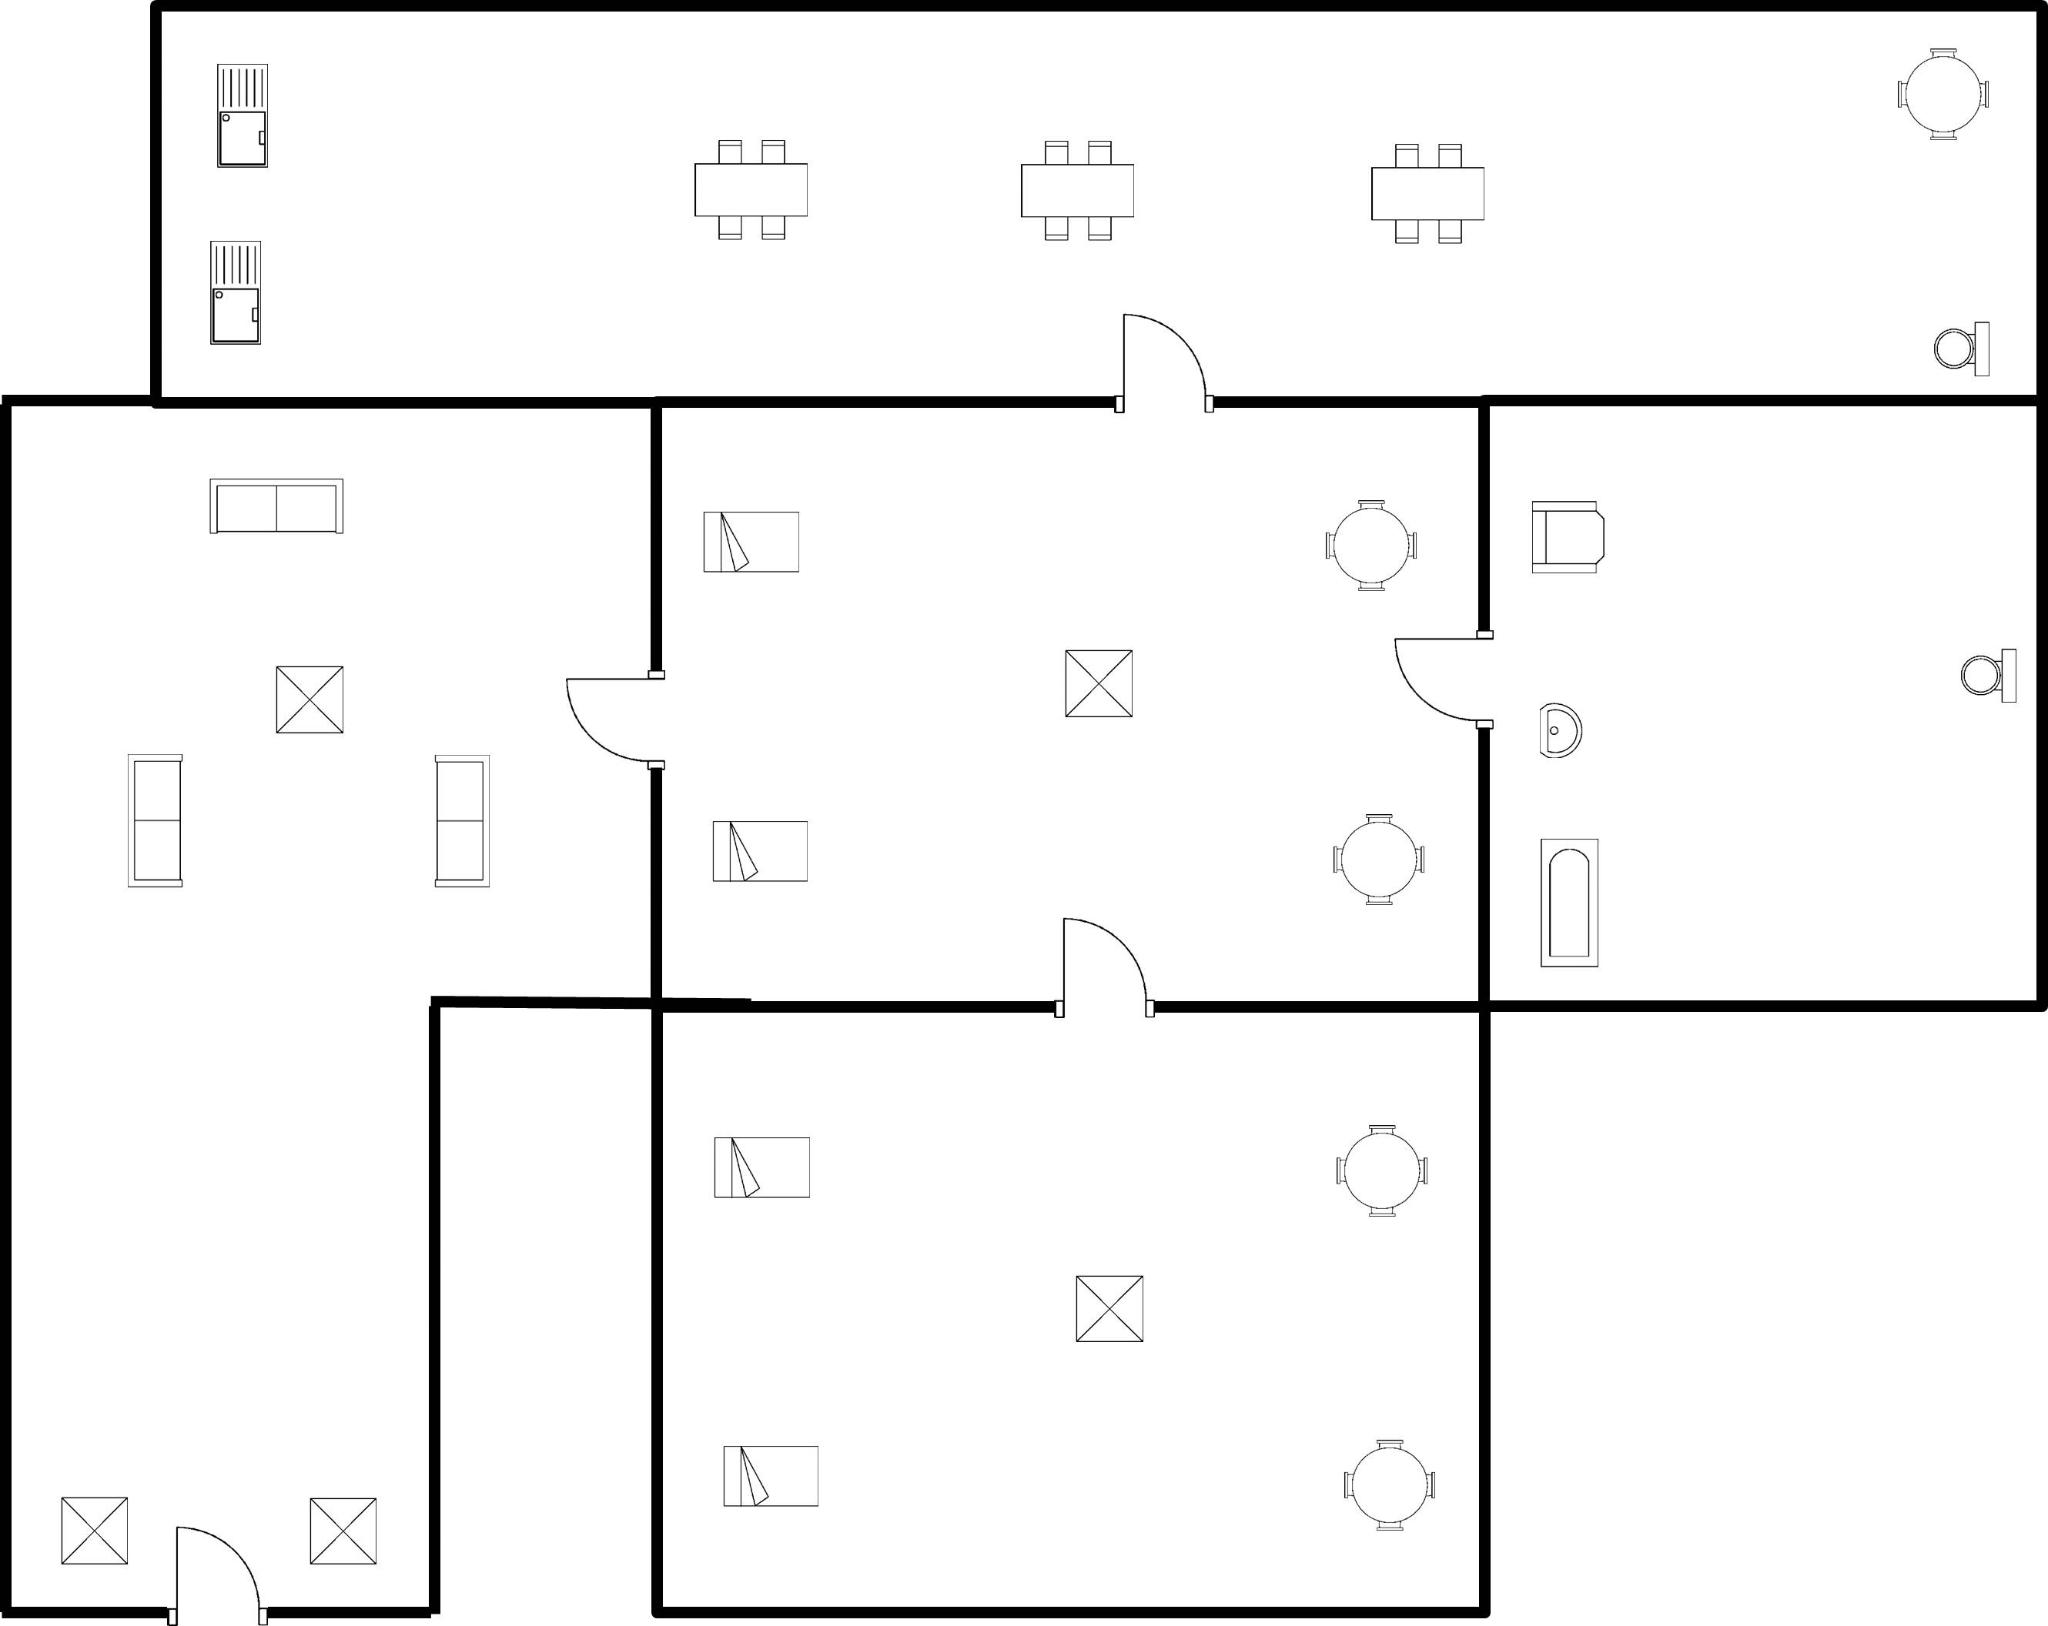bed: (710, 1431, 834, 1521), (692, 502, 810, 585), (698, 1131, 823, 1205), (703, 811, 816, 891)
dining_table: (1006, 125, 1147, 254), (1360, 131, 1504, 254), (683, 125, 820, 254)
round_table: (1320, 1109, 1440, 1232), (1313, 489, 1436, 605), (1887, 38, 2006, 156), (1312, 803, 1436, 916), (1332, 1423, 1448, 1543)
sink: (208, 52, 279, 178), (199, 229, 269, 356)
sofa: (198, 472, 356, 549), (422, 750, 494, 899), (123, 743, 191, 896)
toilet: (1952, 630, 2026, 718), (1925, 299, 1998, 387)
tub: (1528, 828, 1614, 978)
